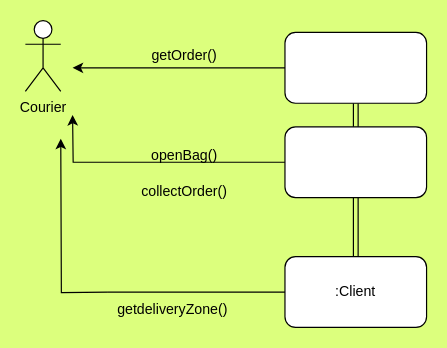
The diagram is 447 pixels wide and 348 high, and some of its shapes have lost their labels. Each missing label, with the centre of its shape:
":Agency" belongs at (x=355, y=67).
":Agent" belongs at (x=355, y=162).
